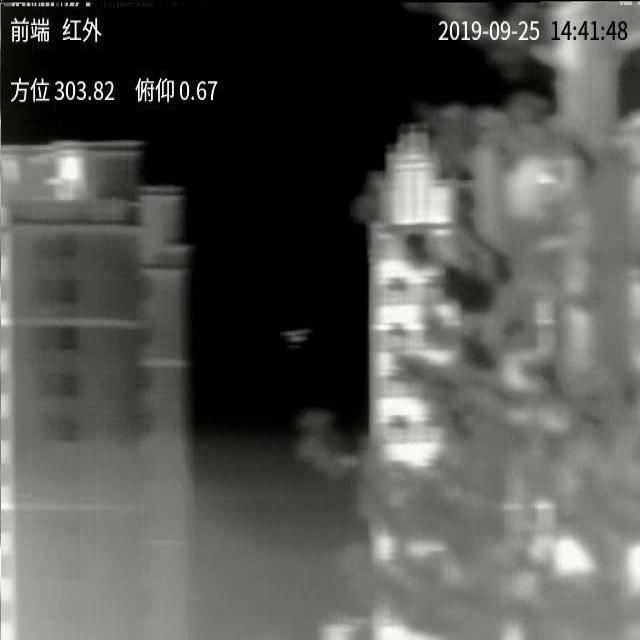drone: (280, 330, 309, 348)
